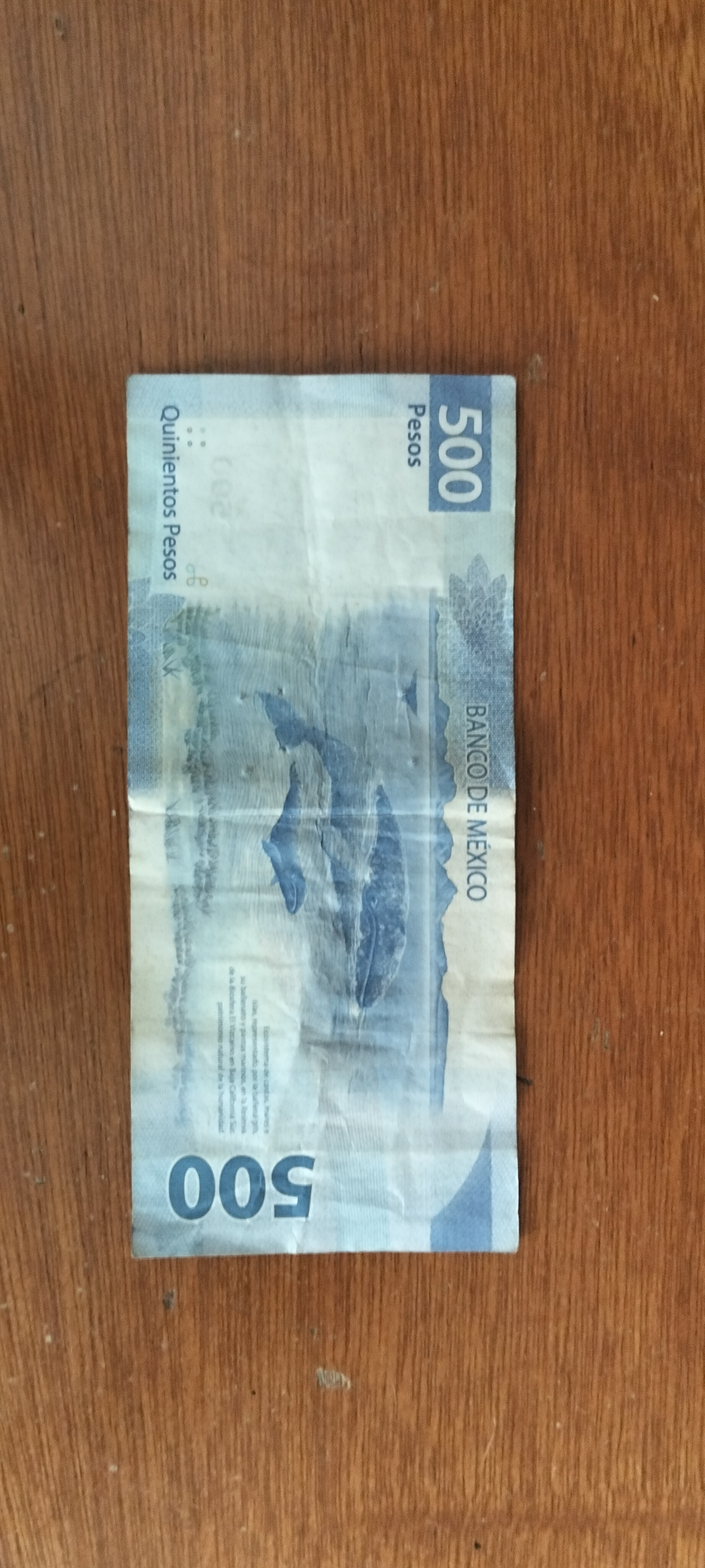billetes: (108, 350, 538, 1269)
